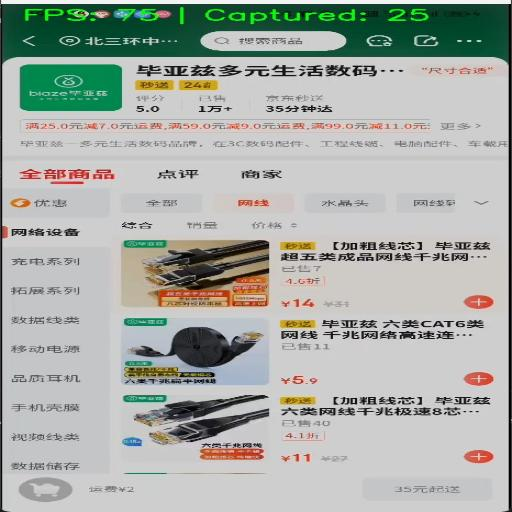back: (4, 24, 54, 53)
butten: (2, 250, 102, 275), (445, 31, 512, 54)
input: (200, 32, 342, 52)
